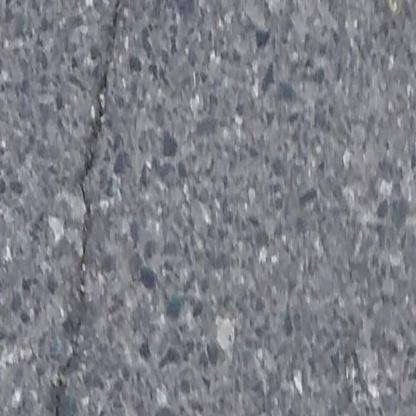Cracks: (48, 0, 129, 416)
